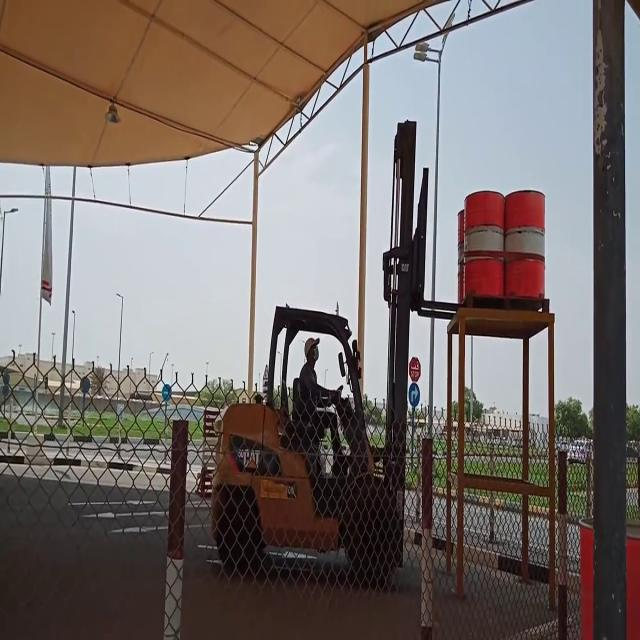Chariot elevateur: (210, 286, 412, 596)
